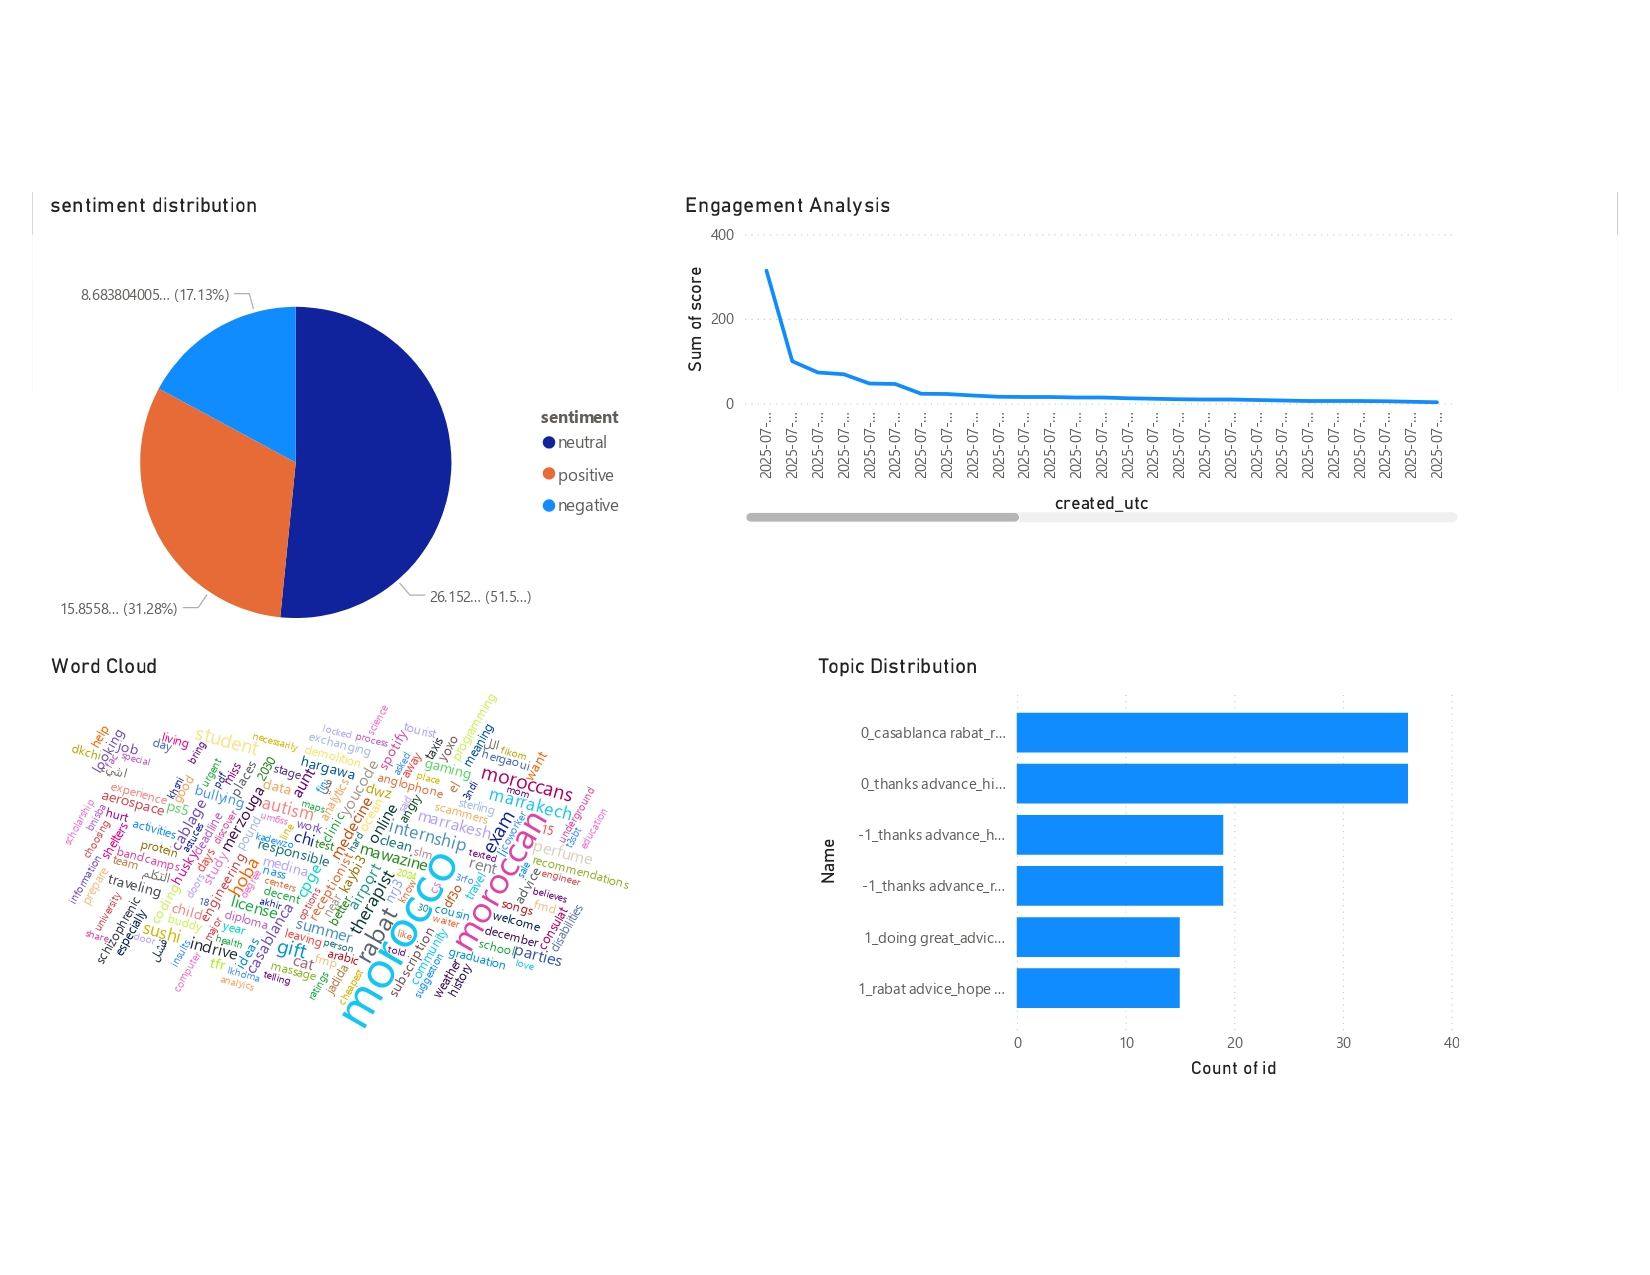

This screenshot's page, from the dashboard's own definition file:
{"tool":"powerbi","page":{"name":"Page 1","canvas":[1280,720],"ordinal":0},"visuals":[{"type":"pieChart","title":"sentiment distribution","fields":{"Category":["posts.sentiment"],"Y":["Sum(posts.sentiment_score)"]},"box":[9.4,0,485.7,417.6],"z":0},{"type":"WordCloud1447959067750","title":"Word Cloud","fields":{"Category":["posts.keywords"]},"box":[9.5,372.2,618.7,348.3],"z":1000},{"type":"lineChart","title":"Engagement Analysis","fields":{"Category":["posts.created_utc"],"Y":["Sum(posts.score)"]},"box":[521.7,0,634.7,272],"z":2000},{"type":"barChart","title":"Topic Distribution","fields":{"Category":["topics.Name"],"Y":["CountNonNull(posts.id)"]},"box":[629,372,528,348],"z":2001}]}

Visuals, with their boxes on the page's 1280x720 design canvas (x1, y1, x2, y2). These are canvas units, not pixel positions in the 1650x1275 screenshot, which may show the page scaled, cropped or inside an application window:
"sentiment distribution" pieChart: bbox=(9, 0, 495, 418)
"Word Cloud" WordCloud1447959067750: bbox=(10, 372, 628, 720)
"Engagement Analysis" lineChart: bbox=(522, 0, 1156, 272)
"Topic Distribution" barChart: bbox=(629, 372, 1157, 720)
